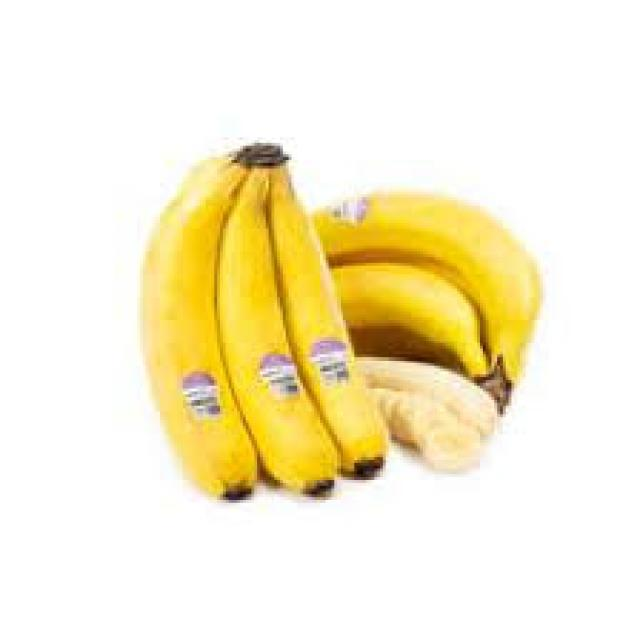banana: (137, 133, 399, 495), (265, 182, 562, 410)
